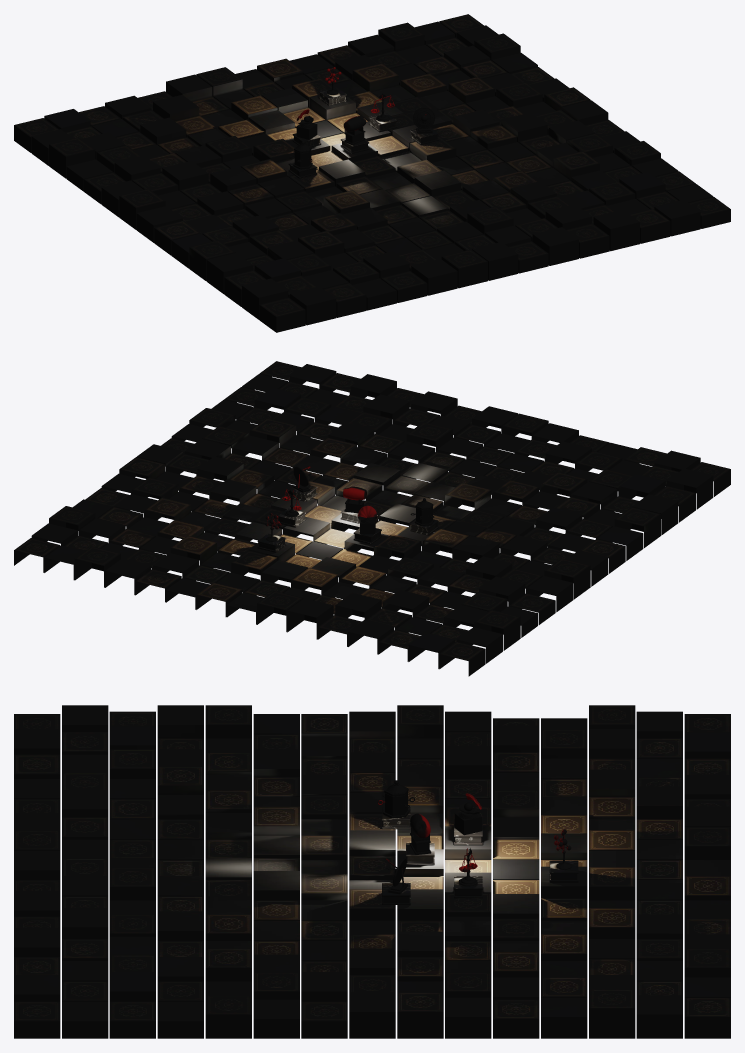
The model's file is pieces.glb.
The picture shows the model from 3 angles, top to bottom: view 1: azimuth 30°, elevation 25°; view 2: azimuth 150°, elevation 25°; view 3: azimuth 270°, elevation 25°; orthographic projection. The views are drawn at different scales.
Visible parts, largest first — view 1: board, piece-cyrus; view 2: board, piece-cyrus; view 3: board, piece-zagros, piece-pearl, piece-cyrus, plinth-onepharma.
Boxes of the visible parts, box(x1,y1,x2,y2) form: board: box(14, 14, 730, 332); piece-cyrus: box(343, 116, 366, 144); board: box(14, 361, 730, 676); piece-cyrus: box(343, 486, 366, 513); board: box(14, 705, 730, 1038); piece-zagros: box(377, 780, 414, 818); piece-pearl: box(454, 793, 481, 835); piece-cyrus: box(409, 813, 431, 854); plinth-onepharma: box(549, 860, 578, 882).
Bounding box in the file's own units: 22.45 × 2.62 × 22.45.
Materials: 13 (13 with a texture image).
